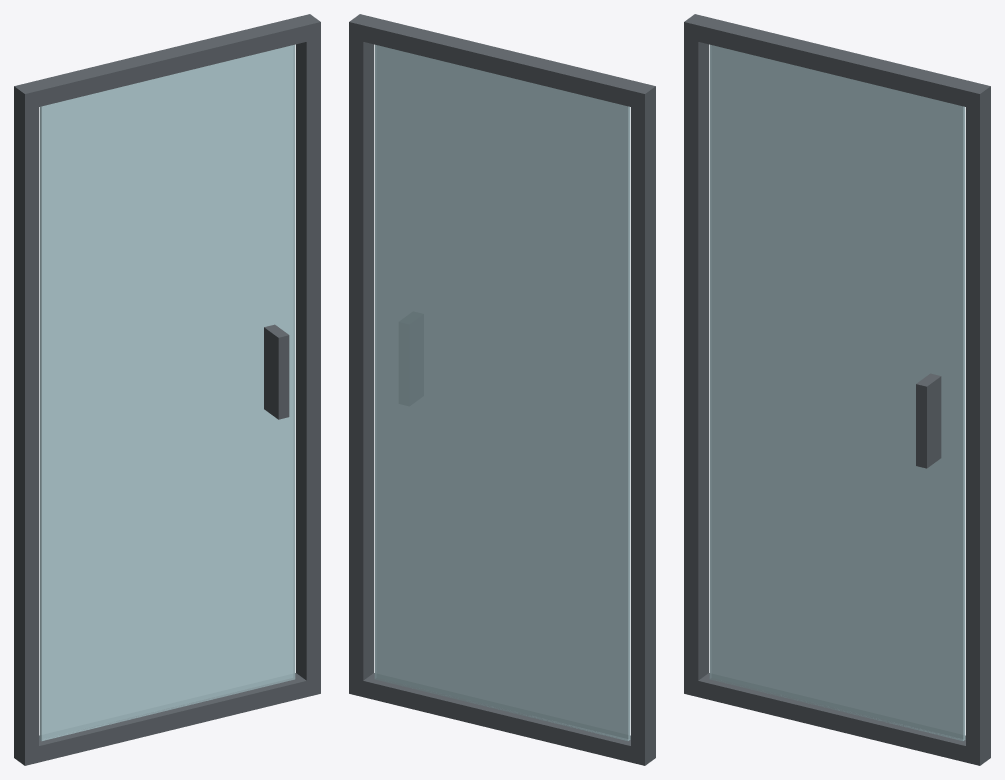
File: puerta-negro-esmerilado.glb
3 views of the same model, side by side, from view 1: azimuth 30°, elevation 25°; view 2: azimuth 150°, elevation 25°; view 3: azimuth 330°, elevation 25° (orthographic).
Parts seen in each view (by area): view 1: glass, post-0.45, post0.45, rail2.025, rail0.025, handle; view 2: glass, post-0.45, post0.45, rail2.025, rail0.025; view 3: glass, post0.45, post-0.45, rail2.025, rail0.025, handle.
Boxes of the visible parts, x1,y1,x2,y2 form: glass: (39,44,295,740); post-0.45: (14,83,38,765); post0.45: (296,14,320,696); rail2.025: (22,17,313,107); rail0.025: (32,673,313,763); handle: (264,324,289,419); glass: (374,44,630,740); post-0.45: (631,83,655,765); post0.45: (349,14,373,696); rail2.025: (356,16,648,108); rail0.025: (356,673,637,763); glass: (709,44,965,740); post0.45: (966,83,990,765); post-0.45: (684,14,708,696); rail2.025: (691,17,982,107); rail0.025: (691,673,972,763); handle: (916,373,941,468).
Size of the model in its own units: 0.945 by 2.05 by 0.12.
